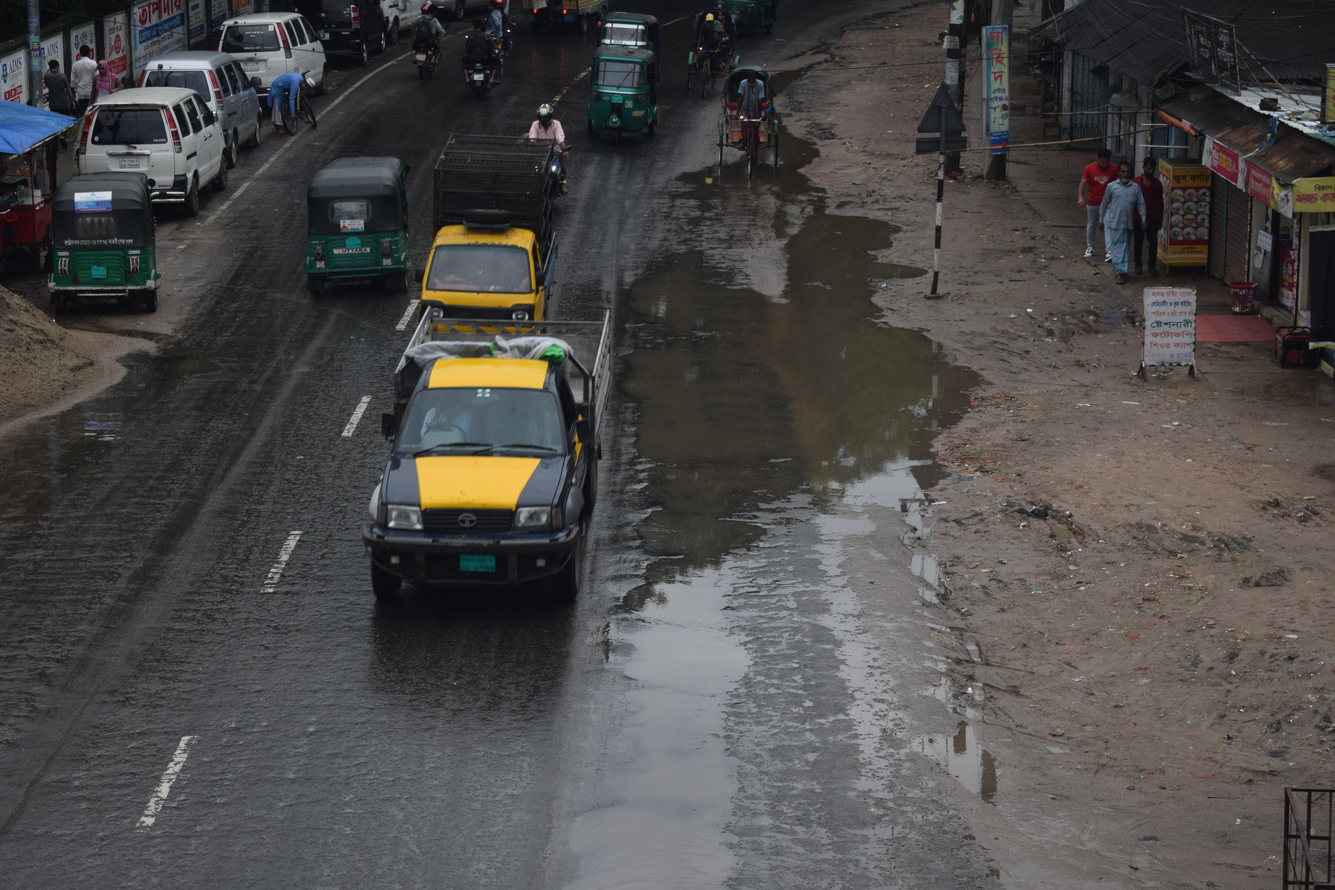Bike: (451, 19, 512, 103)
Car: (54, 75, 249, 225), (122, 49, 285, 167), (701, 54, 795, 204), (204, 8, 345, 103)
Truck: (346, 292, 640, 642), (399, 107, 578, 357)
